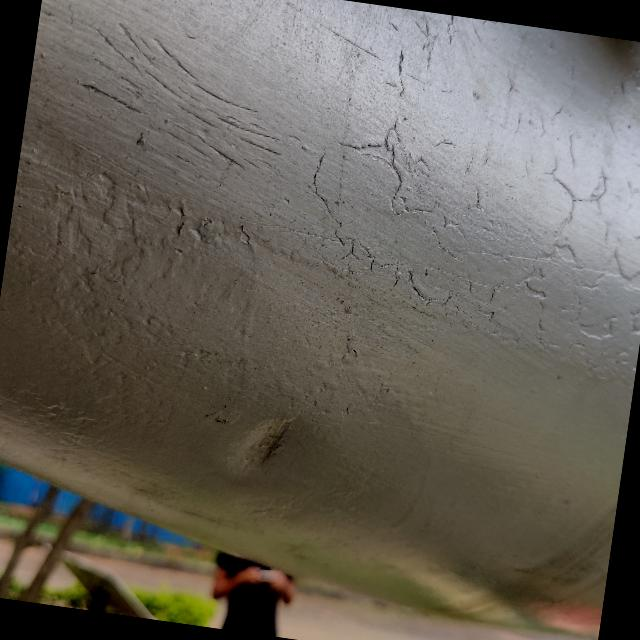dent: (196, 380, 326, 508)
